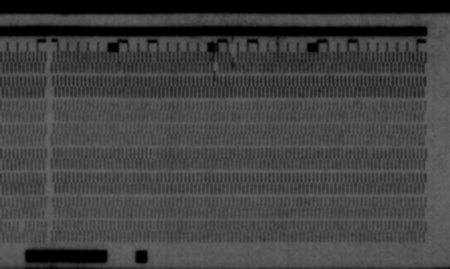Broken hole: (16, 221, 26, 234)
Oblique printing: (210, 63, 221, 79), (227, 52, 240, 65), (115, 62, 126, 77), (226, 111, 237, 124), (208, 52, 219, 65)
